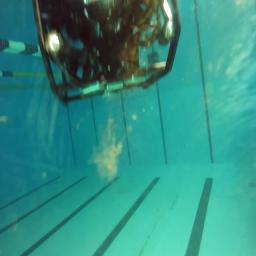front: (31, 1, 181, 104)
